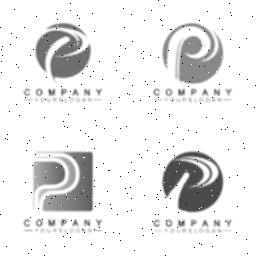p: (24, 145, 100, 215), (158, 146, 228, 216), (160, 17, 224, 87), (30, 21, 96, 85)
